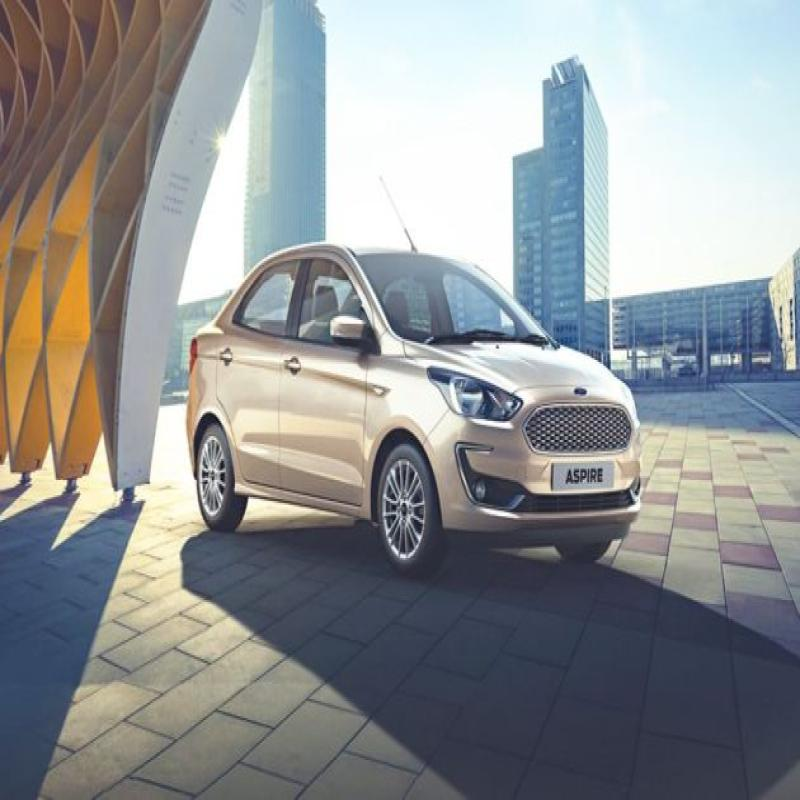car: (172, 232, 651, 589)
